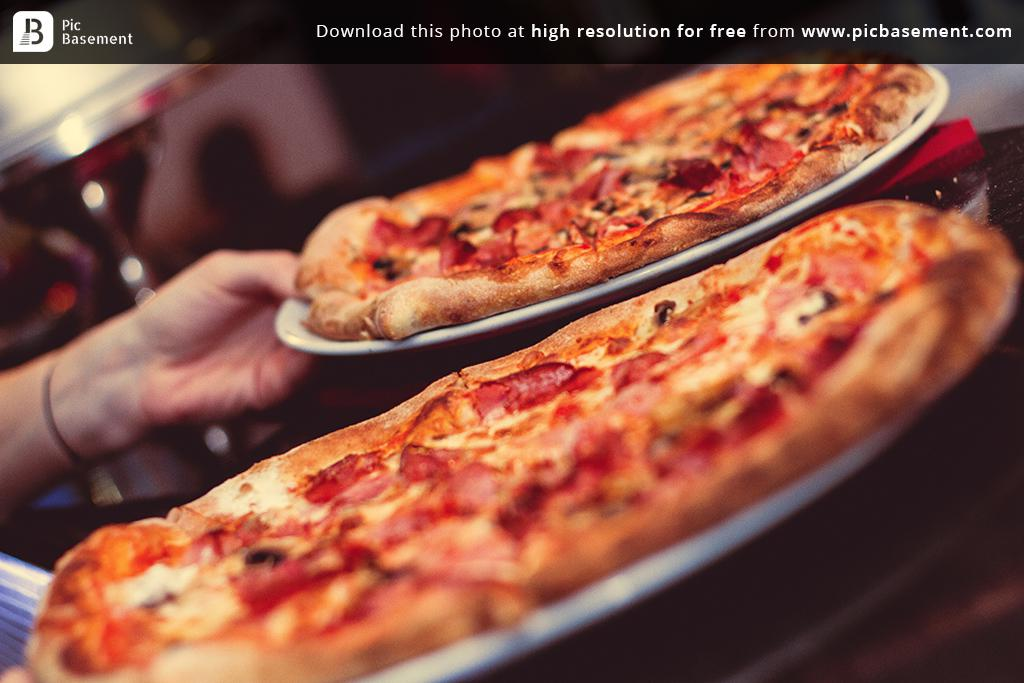Pizza: (23, 206, 1018, 682), (300, 51, 965, 351)
